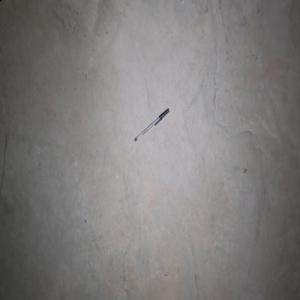Pen: (134, 108, 169, 141)
